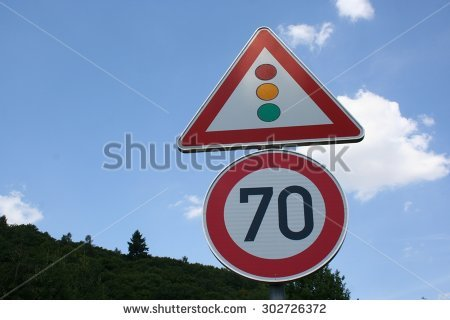Speed_limit_70km: (202, 153, 350, 277)
